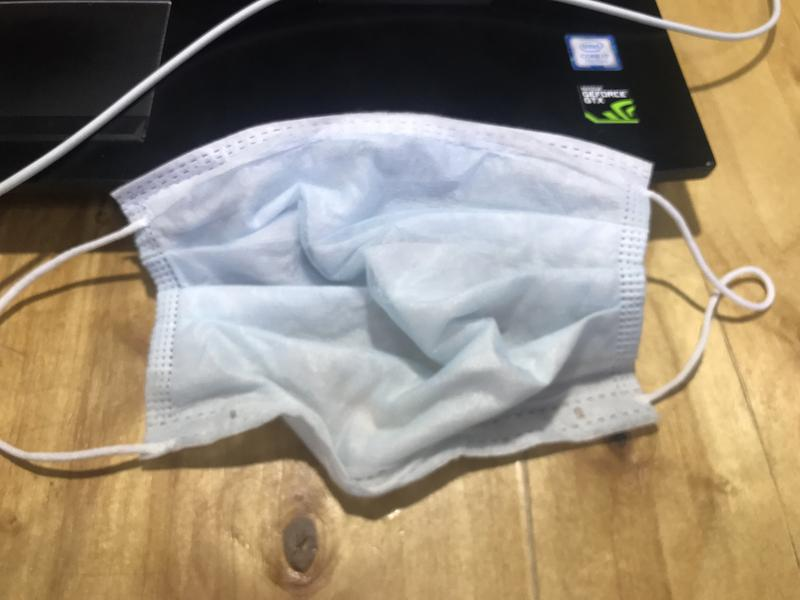medical_mask: (1, 109, 776, 498)
